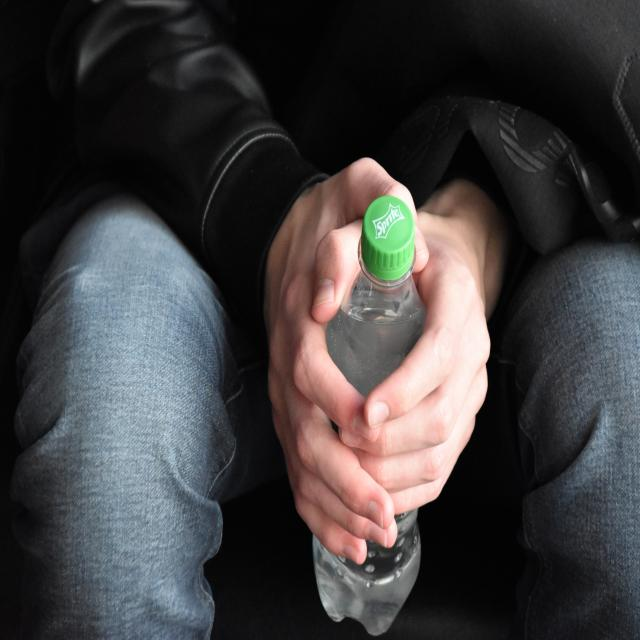bottle: (312, 196, 426, 638)
